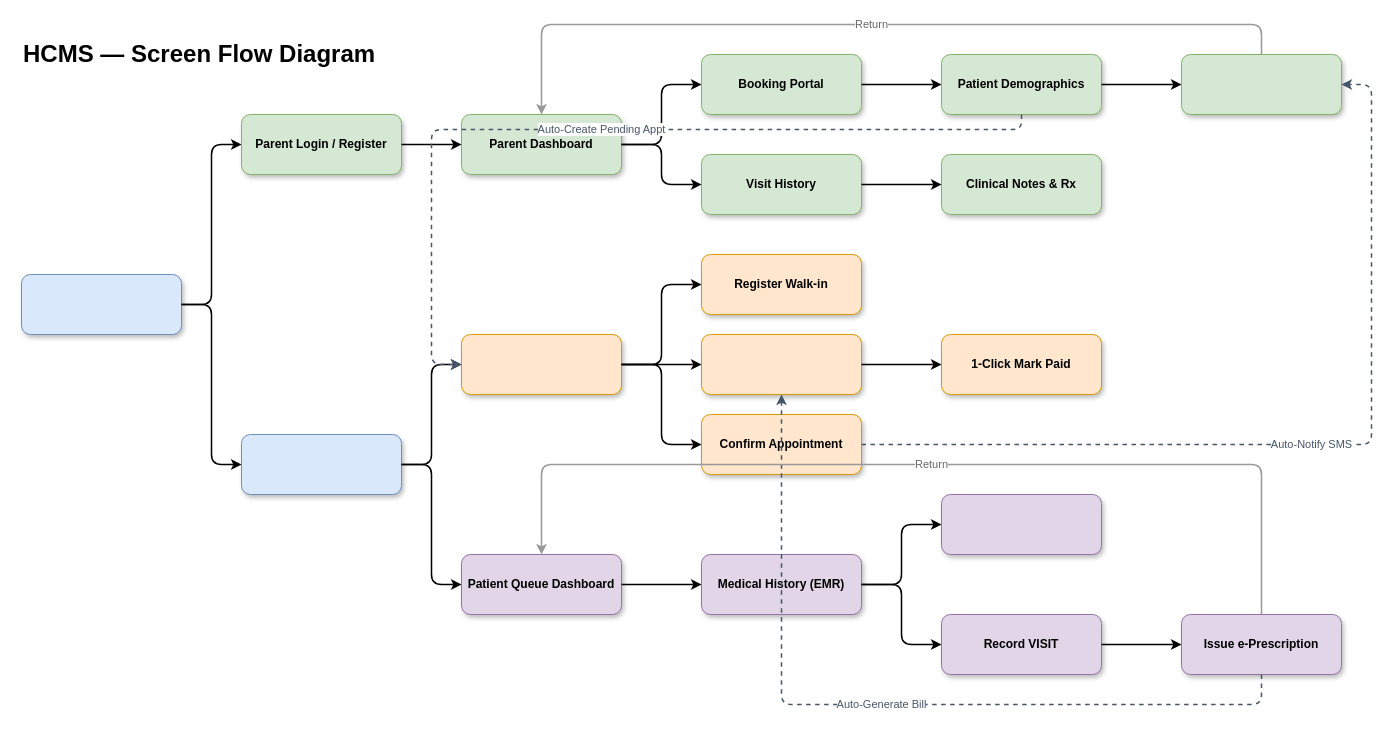
The diagram is 1398 pixels wide and 731 high, and some of its shapes have lost their labels. The shapes that lost their labels are listed below. From the top down, each one's centre as x and y in pixels, then its label:
point (1262, 86): Appointment Confirmed
point (102, 306): System Landing Page
point (542, 366): Appointment Dashboard
point (782, 366): View Billing Invoice
point (322, 466): Staff Login
point (1022, 526): Manage Patient Profile
